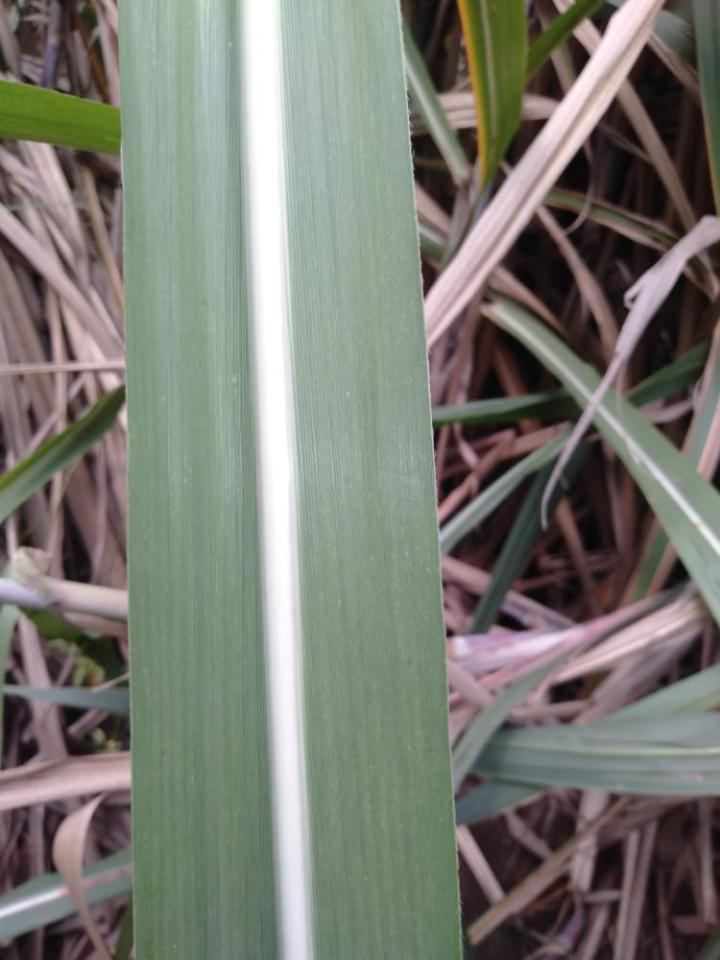Healthy: (119, 0, 462, 959)
